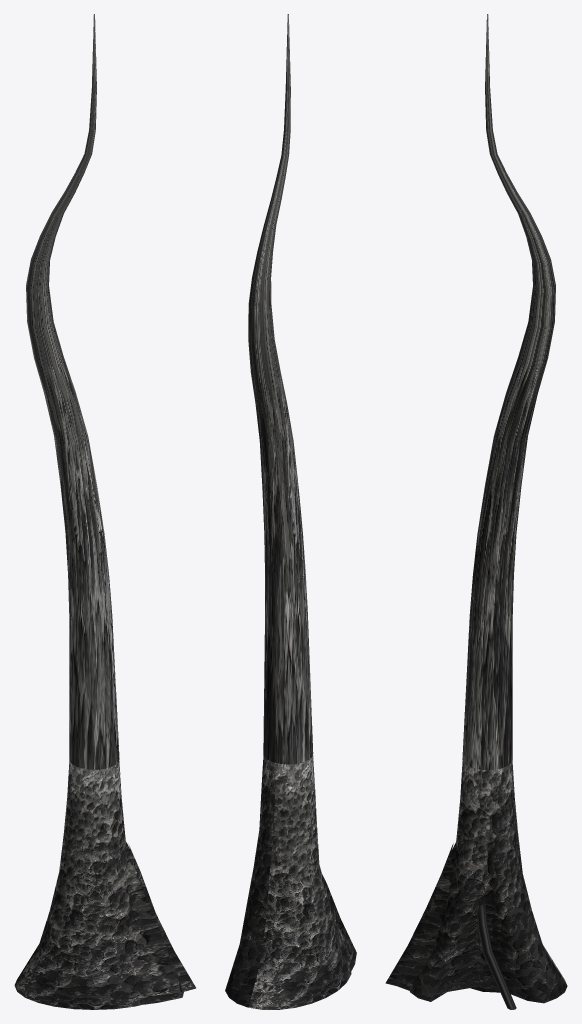
The model's file is Tree_01.fbx.
3 renders of one model, left to right at view 1: azimuth 90°, elevation 25°; view 2: azimuth 150°, elevation 25°; view 3: azimuth 270°, elevation 25°, orthographic.
Parts seen in each view (by area): view 1: Tree_Bottom_03; view 2: Tree_Bottom_03; view 3: Tree_Bottom_03.
Boxes of the visible parts, x1,y1,x2,y2 form: Tree_Bottom_03: (14,14,195,1009); Tree_Bottom_03: (225,14,356,1009); Tree_Bottom_03: (385,14,567,1009).
Size of the model in its own units: 0.8425 by 8.64 by 1.46.
